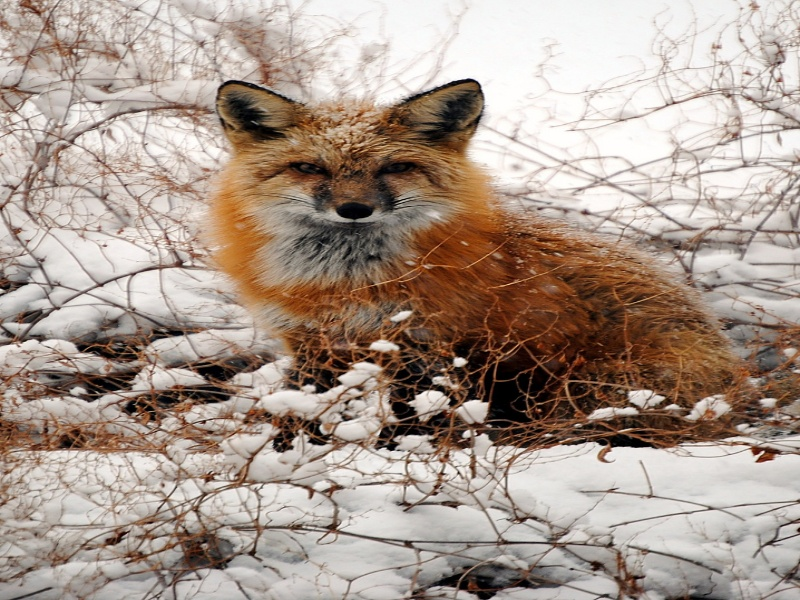fox: (203, 66, 766, 441)
